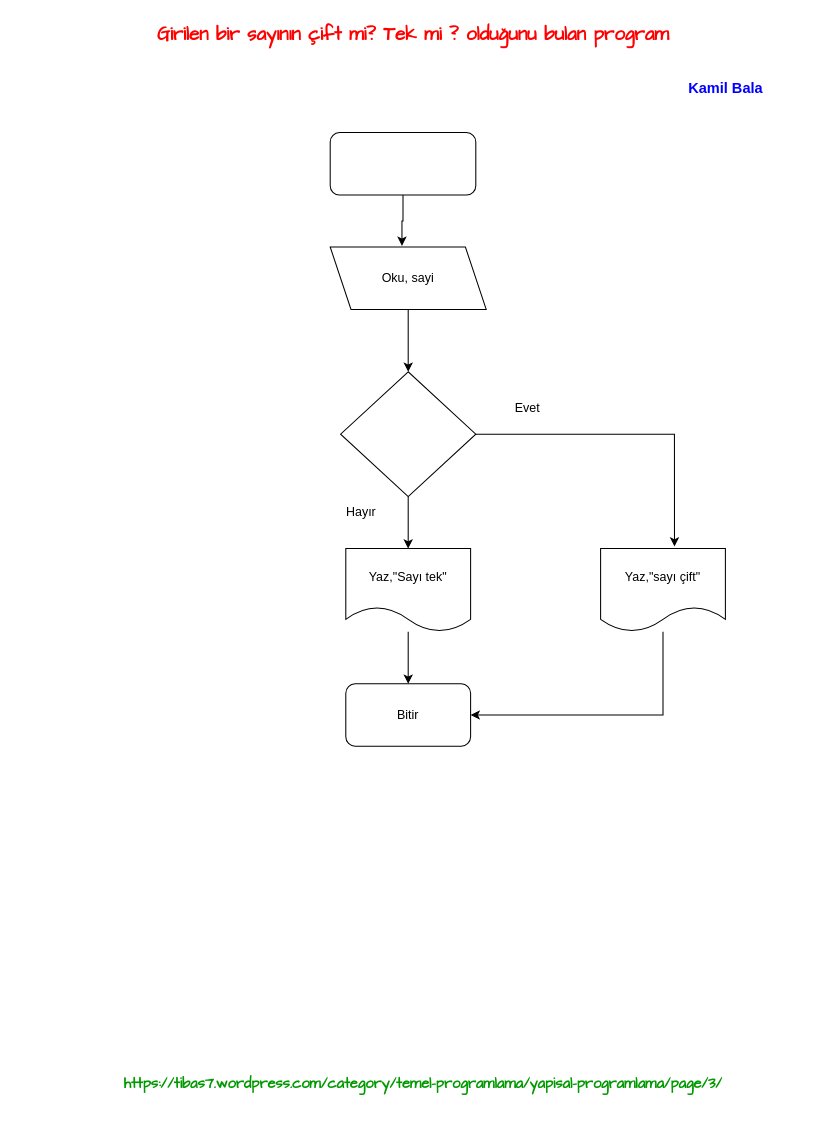
Some shapes in this 826 by 1127 pixel diagram are drawn without their labels. Here are the shapes that lost their labels. From the top down, the centre of each, then its label:
the point at 402,163: Başla
the point at 408,434: sayi %2 ==0
